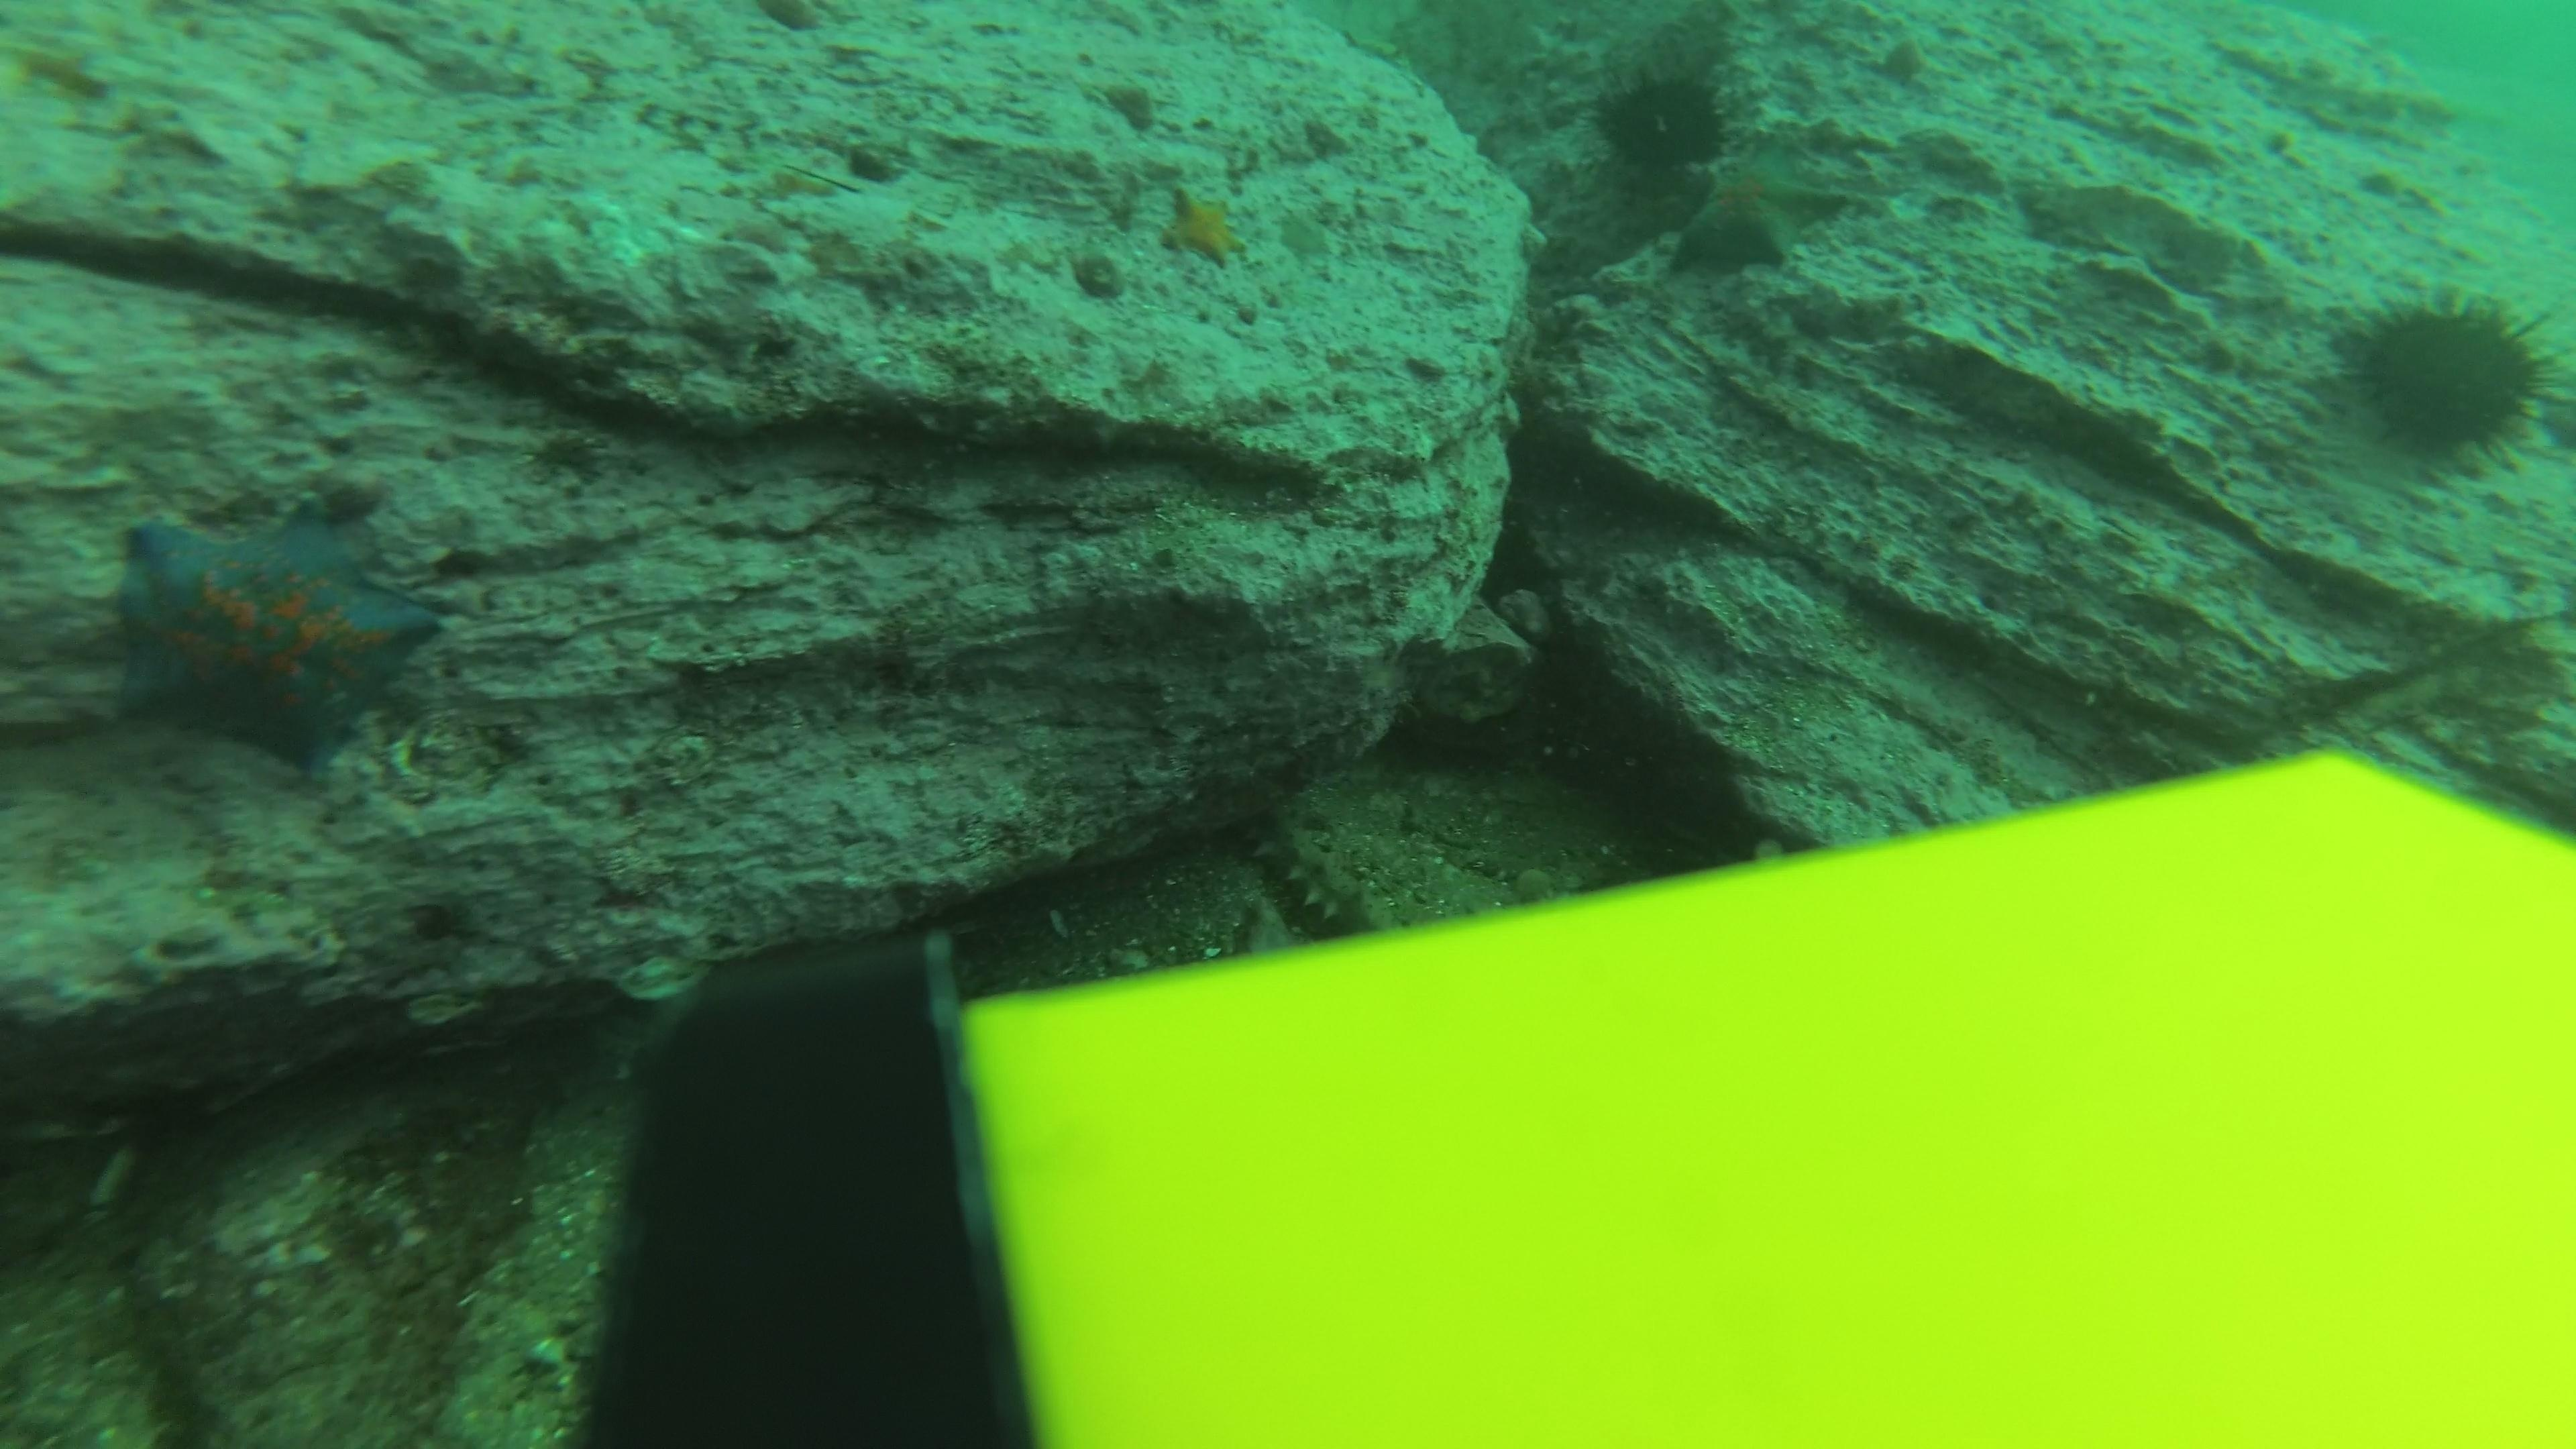echinus: (2334, 280, 2562, 474), (1589, 62, 1736, 180)
holothurian: (1247, 805, 1387, 948)
starfish: (92, 494, 451, 782), (1661, 134, 1858, 280), (1157, 182, 1254, 271)
